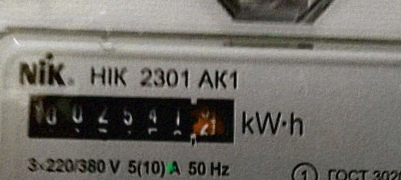0: (41, 101, 60, 128), (70, 99, 84, 127)
1: (170, 101, 184, 128)
2: (94, 100, 110, 126)
4: (146, 101, 159, 124)
5: (118, 100, 138, 129)
6: (196, 119, 212, 137)
screen: (15, 78, 250, 158)
